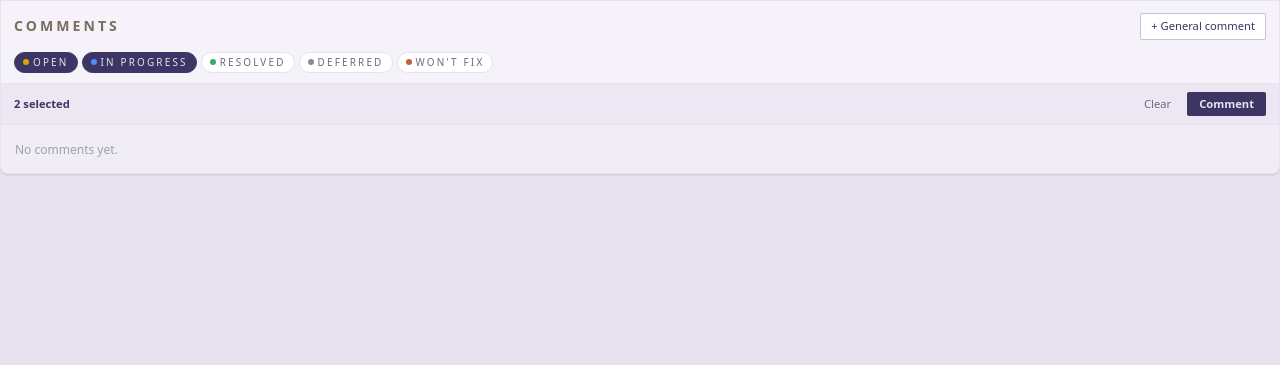
CommentGutter › selecting units shows the selection bar and composes one comment with the selected anchors
Check: the text "2 selected" is shown, box left=14, top=96, right=70, bottom=112
Click the button "Comment". click: (1227, 104)
box: left=1187, top=92, right=1266, bottom=116
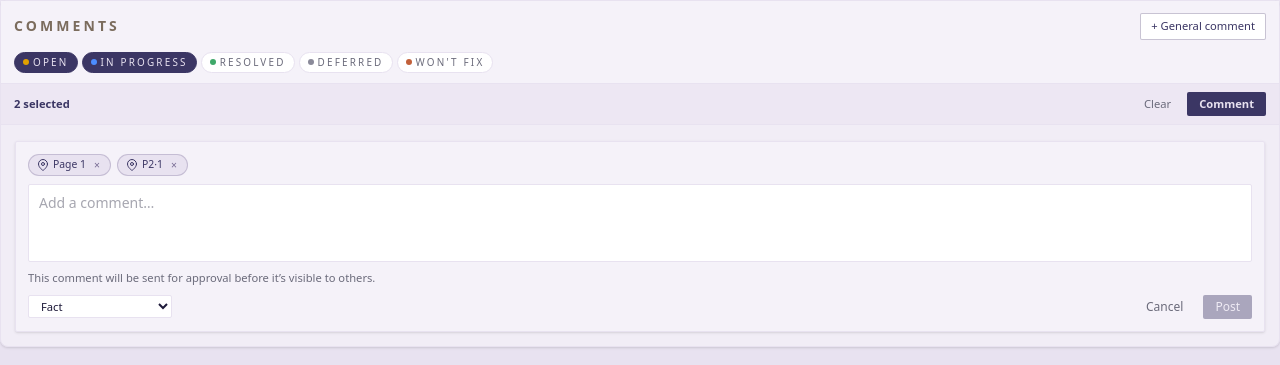
Check: the text box is shown
Type "fix these" into the text box. click: (640, 223)
box: left=28, top=184, right=1252, bottom=262
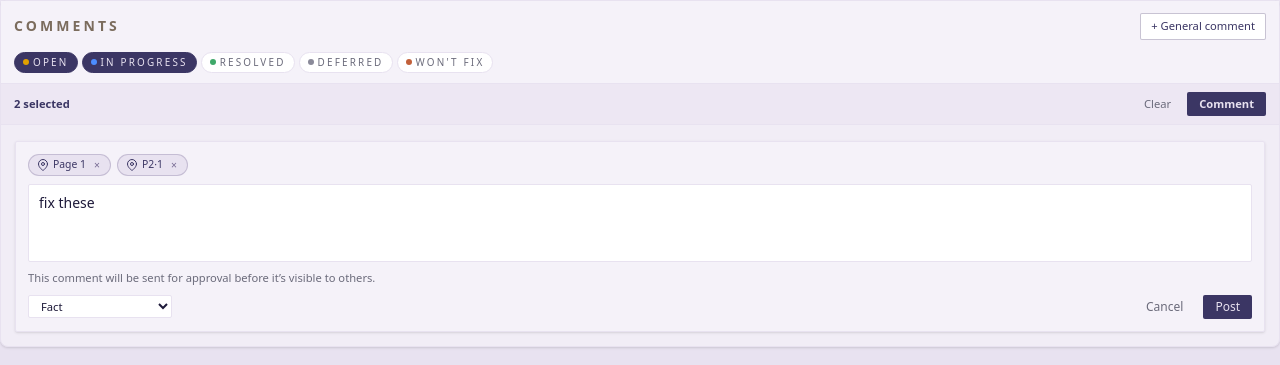
Click the button "Post". click: (1228, 307)
box: left=1203, top=295, right=1252, bottom=319
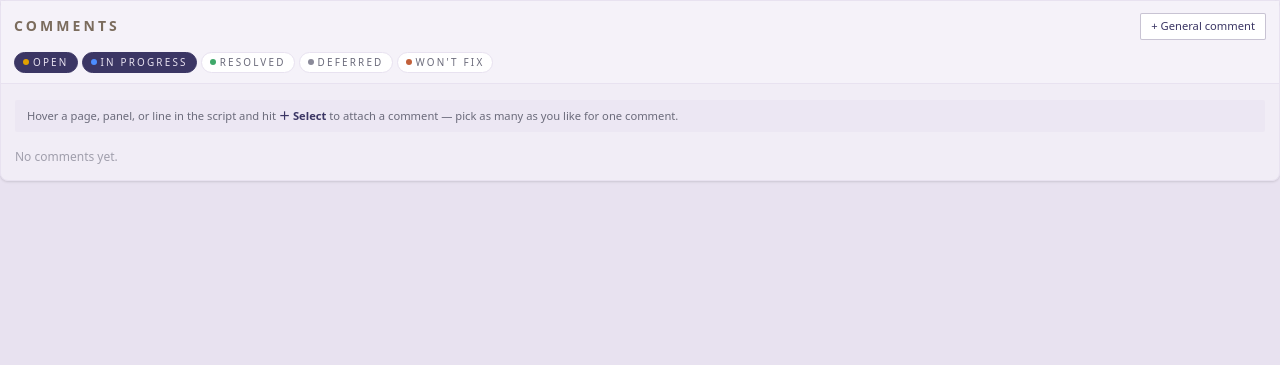
Check: the text "2 selected" is gone
